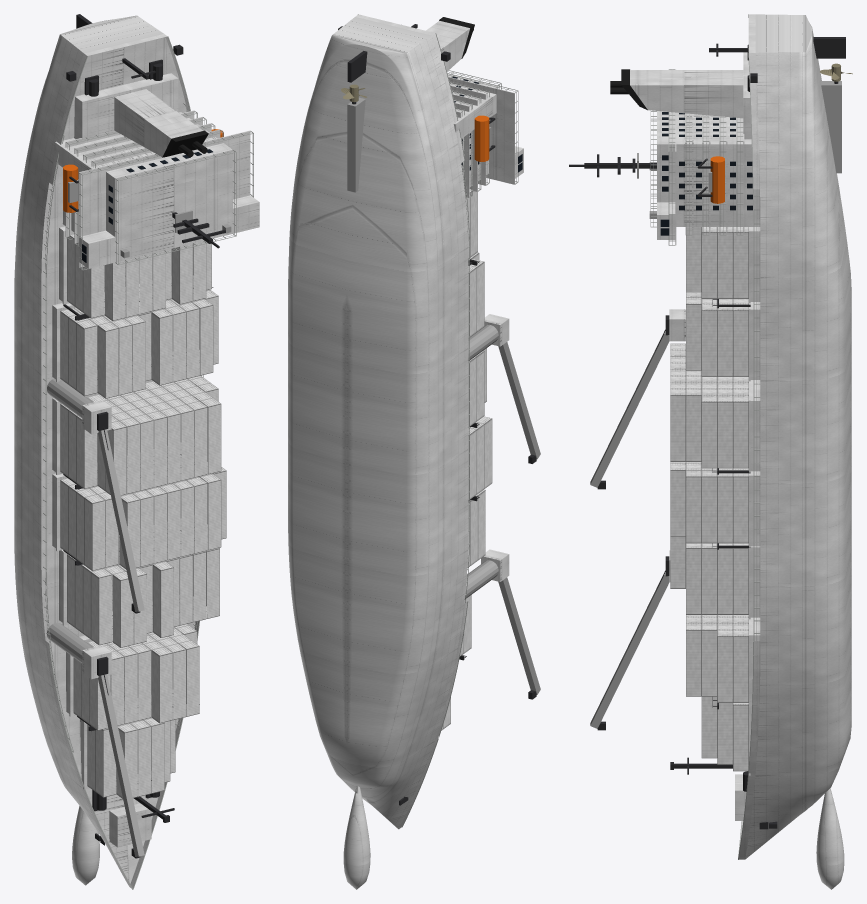
Rendered from surface-ship.obj.
3 views of the same model, side by side, from view 1: azimuth 30°, elevation 25°; view 2: azimuth 150°, elevation 25°; view 3: azimuth 270°, elevation 25° (orthographic). The views are drawn at different scales.
Visible parts, largest first — view 1: Superstructure, HullAbove, Deck, Containers_c_orange, Containers_c_navy, Containers_c_blue, Containers_c_rust, Containers_c_red, Containers_c_teal, Cranes, Containers_c_green, Containers_c_grey (+19 smaller); view 2: HullBelow, HullAbove, HullBoot, Superstructure, Cranes, Containers_c_navy, Bulb, TransomAbove, Bulwark, Skeg, Containers_c_blue, HouseRailings (+6 smaller); view 3: HullAbove, HullBelow, HullBoot, Superstructure, Containers_c_red, Containers_c_navy, Funnel, HatchCoamings, Containers_c_rust, Containers_c_grey, Containers_c_orange, Cranes (+16 smaller).
Part boxes in pixels (<box>): Superstructure: <box>54,73,259,268</box>; HullAbove: <box>24,37,114,860</box>; Deck: <box>41,37,201,883</box>; Containers_c_orange: <box>68,275,219,798</box>; Containers_c_navy: <box>76,257,221,725</box>; Containers_c_blue: <box>68,250,206,788</box>; Containers_c_rust: <box>67,234,213,781</box>; Containers_c_red: <box>60,288,218,796</box>; Containers_c_teal: <box>89,241,209,777</box>; Cranes: <box>47,378,144,856</box>; Containers_c_green: <box>74,299,207,773</box>; Containers_c_grey: <box>67,242,226,786</box>; HullBelow: <box>288,44,439,798</box>; HullAbove: <box>373,36,468,829</box>; HullBoot: <box>315,35,447,805</box>; Superstructure: <box>447,74,523,197</box>; Cranes: <box>464,314,540,694</box>; Containers_c_navy: <box>469,189,492,494</box>; Bulb: <box>343,786,370,889</box>; TransomAbove: <box>335,17,431,50</box>; Bulwark: <box>355,14,467,828</box>; Skeg: <box>347,97,365,192</box>; Containers_c_blue: <box>460,265,486,656</box>; HouseRailings: <box>447,70,518,197</box>; HullAbove: <box>745,52,798,859</box>; HullBelow: <box>812,27,851,805</box>; HullBoot: <box>798,18,811,815</box>; Superstructure: <box>637,52,760,245</box>; Containers_c_red: <box>701,304,748,764</box>; Containers_c_navy: <box>670,227,748,614</box>; Funnel: <box>630,70,743,118</box>; HatchCoamings: <box>750,227,760,734</box>; Containers_c_rust: <box>670,297,748,702</box>; Containers_c_grey: <box>670,227,748,623</box>; Containers_c_orange: <box>670,350,748,758</box>; Cranes: <box>590,309,685,728</box>.
Size of the model in its own units: 32.16 by 156 by 46.74.
Materials: 24 (18 with a texture image).
